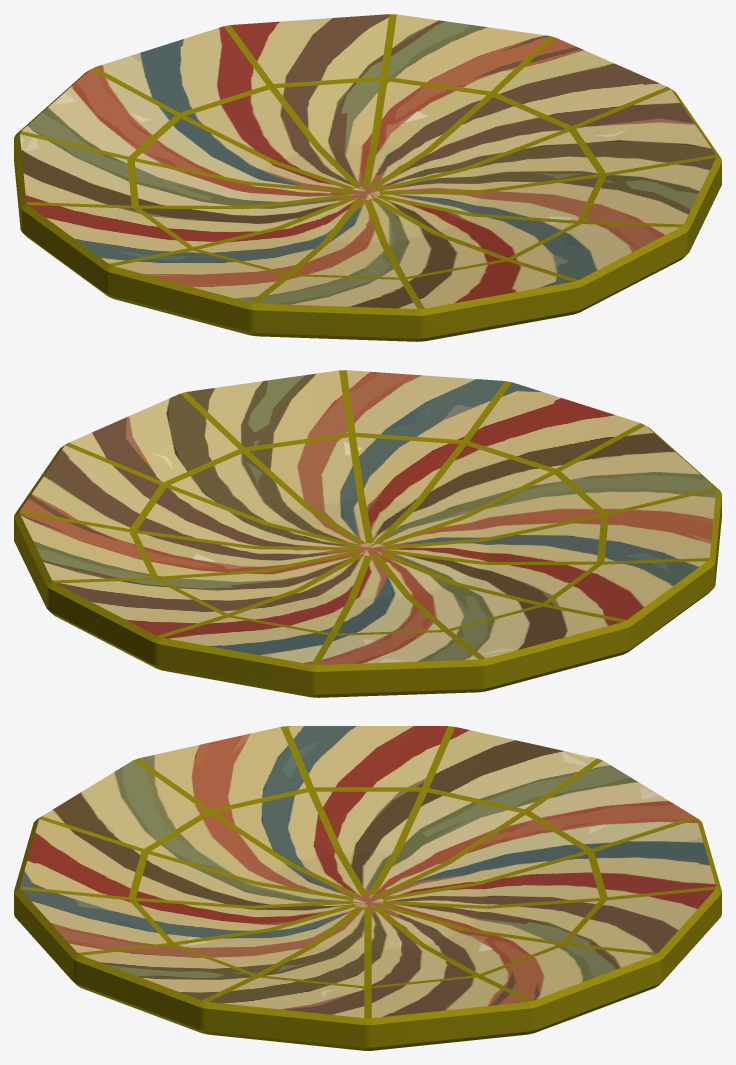
File: plate.fbx
The picture shows the model from 3 angles, top to bottom: view 1: azimuth 30°, elevation 25°; view 2: azimuth 150°, elevation 25°; view 3: azimuth 270°, elevation 25°; orthographic projection.
Visible parts, largest first — view 1: pCylinder1; view 2: pCylinder1; view 3: pCylinder1.
Part boxes in pixels (x1=…): pCylinder1: x1=14, y1=14, x2=721, y2=341; pCylinder1: x1=14, y1=370, x2=721, y2=697; pCylinder1: x1=14, y1=726, x2=721, y2=1050.
Bounding box in the file's own units: 3.94 × 0.3925 × 3.97.
